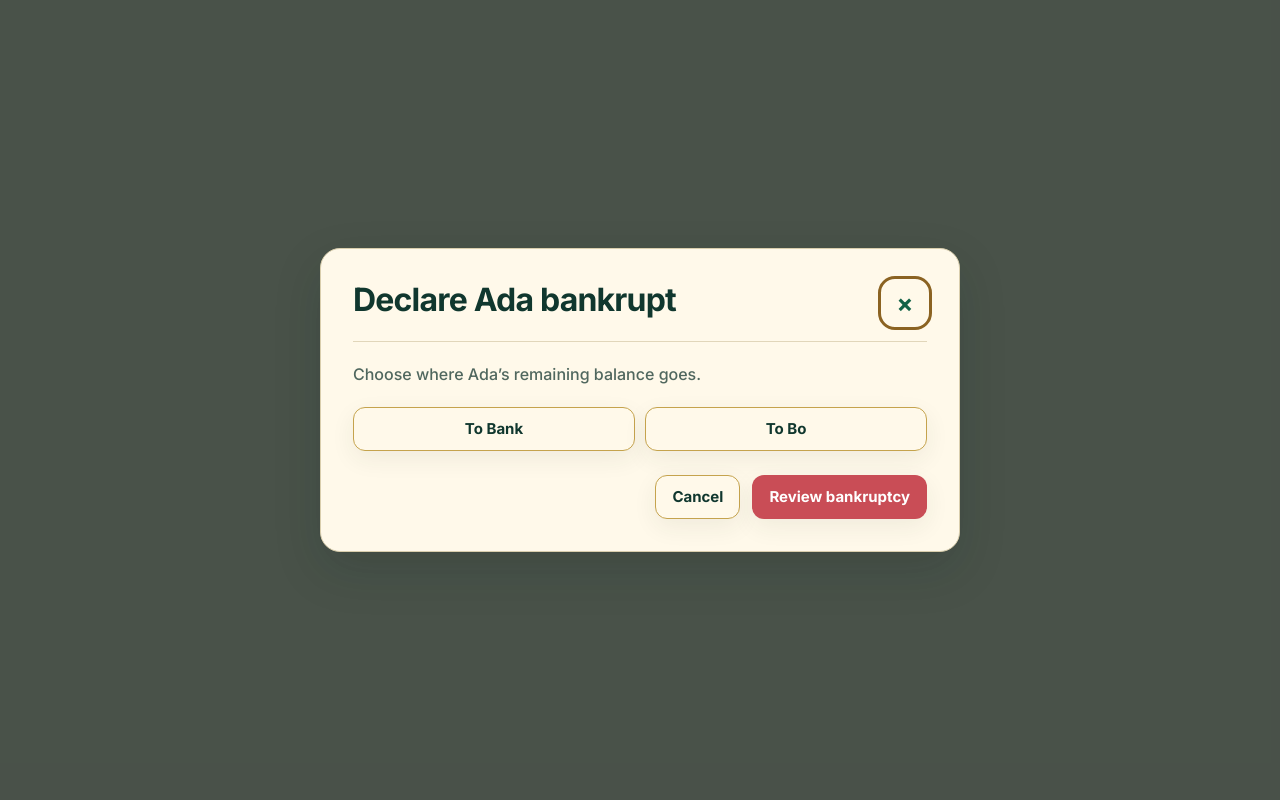
Test case: BankruptcyDialog with a board › shows the properties that pass on, the buildings sold and the creditor fee
Click the button "To Bo". click: (786, 429)
box: left=645, top=407, right=927, bottom=451
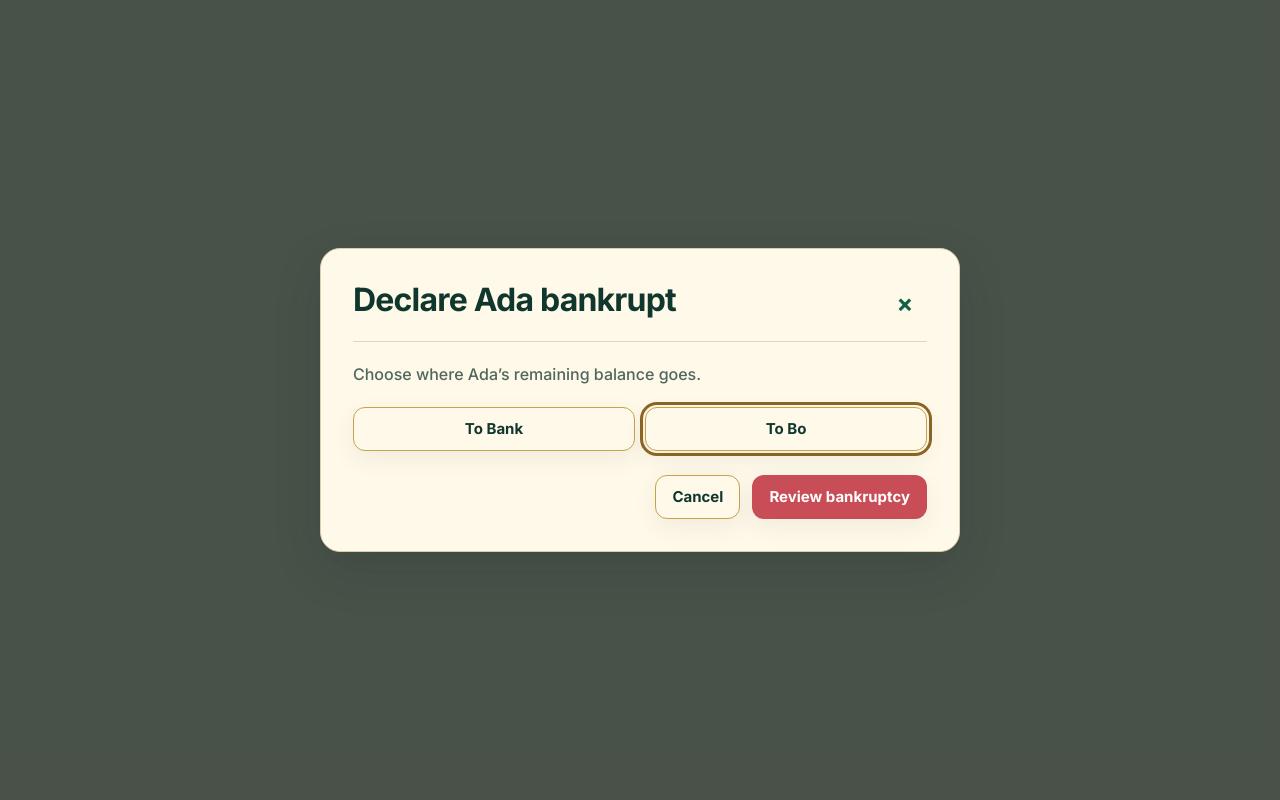
Click the button "Review bankruptcy". click: (840, 497)
box: left=752, top=475, right=927, bottom=519
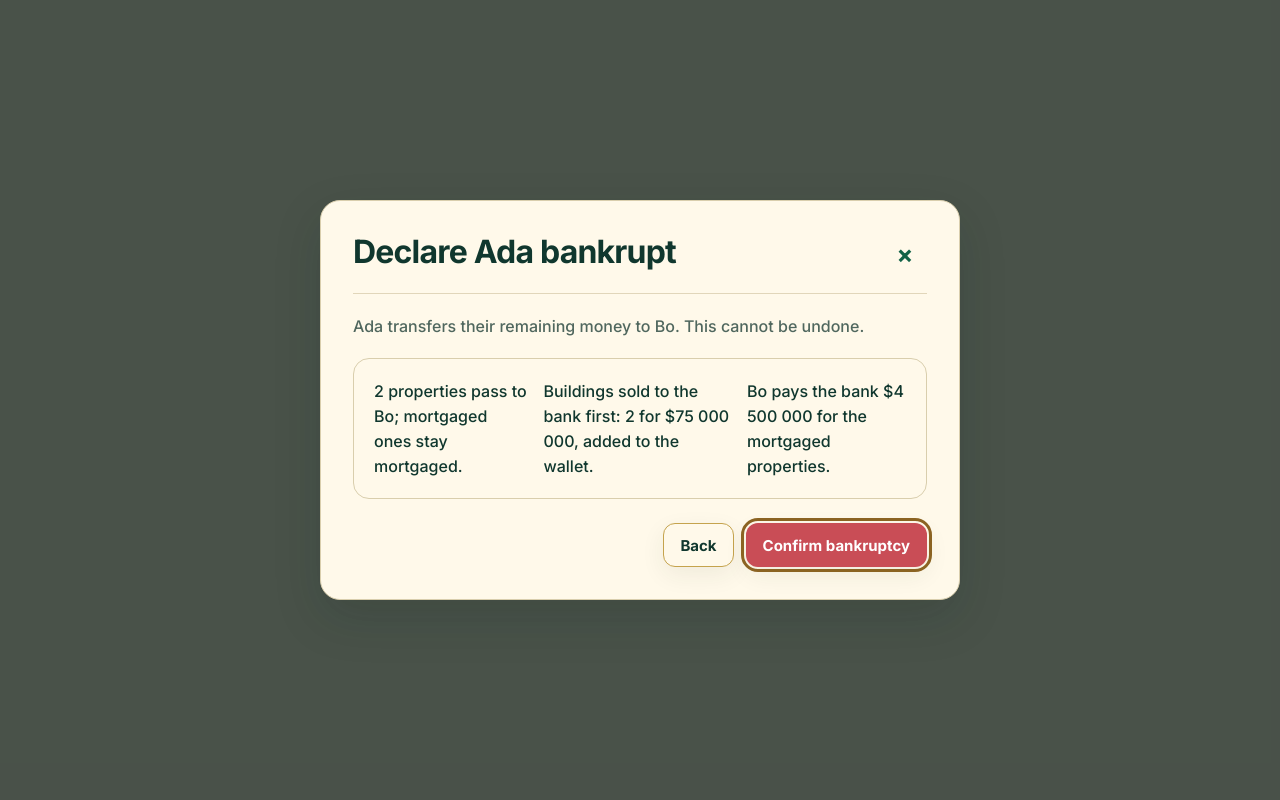
Now the text "2 properties pass to Bo; mortgaged ones stay mortgaged." is shown, box left=374, top=379, right=528, bottom=478
Now the text "Buildings sold to the bank first: 2 for" is shown, box left=544, top=381, right=729, bottom=476
Now the text "Bo pays the bank $4 500 000 for the mortgaged properties." is shown, box left=747, top=379, right=906, bottom=478
